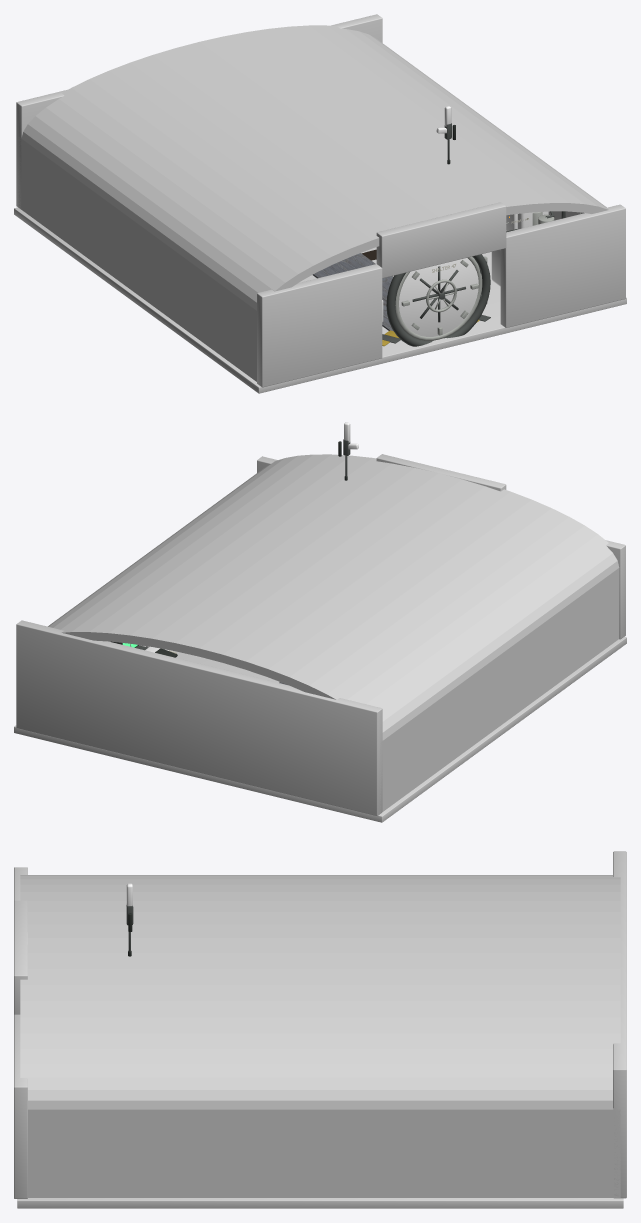
Rendered from shelter47_room_v5.glb.
The picture shows the model from 3 angles, top to bottom: view 1: azimuth 30°, elevation 25°; view 2: azimuth 150°, elevation 25°; view 3: azimuth 270°, elevation 25°; orthographic projection. The views are drawn at different scales.
Visible parts, largest first — view 1: Shelter47_ConcreteShell, FrontWall_Left, FrontWall_Right, Floor, FrontWall_Header, BlastDoor_Door, RearWall, BlastDoor_FrameOuter, Central_Service_Walkway, BlastDoor_FrameInner; view 2: Shelter47_ConcreteShell, RearWall, Floor, FrontWall_Header, FrontWall_Left; view 3: Shelter47_ConcreteShell, Floor, RearWall, FrontWall_Right, FrontWall_Header.
Boxes of the visible parts, x1,y1,x2,y2 form: Shelter47_ConcreteShell: [18, 25, 608, 381]; FrontWall_Left: [257, 264, 382, 387]; FrontWall_Right: [500, 204, 625, 327]; Floor: [14, 207, 626, 393]; FrontWall_Header: [376, 202, 506, 278]; BlastDoor_Door: [399, 258, 478, 336]; RearWall: [16, 14, 382, 209]; BlastDoor_FrameOuter: [386, 254, 490, 346]; Central_Service_Walkway: [313, 253, 393, 331]; BlastDoor_FrameInner: [395, 256, 482, 340]; Shelter47_ConcreteShell: [48, 454, 619, 813]; RearWall: [16, 620, 382, 815]; Floor: [14, 636, 626, 822]; FrontWall_Header: [376, 454, 506, 491]; FrontWall_Left: [606, 540, 625, 639]; Shelter47_ConcreteShell: [20, 875, 620, 1197]; Floor: [17, 1198, 623, 1208]; RearWall: [613, 851, 626, 1198]; FrontWall_Right: [14, 1014, 27, 1198]; FrontWall_Header: [14, 900, 27, 1014].
Size of the model in its own units: 13.15 by 6.78 by 15.31.
34 materials, 1 textured.
